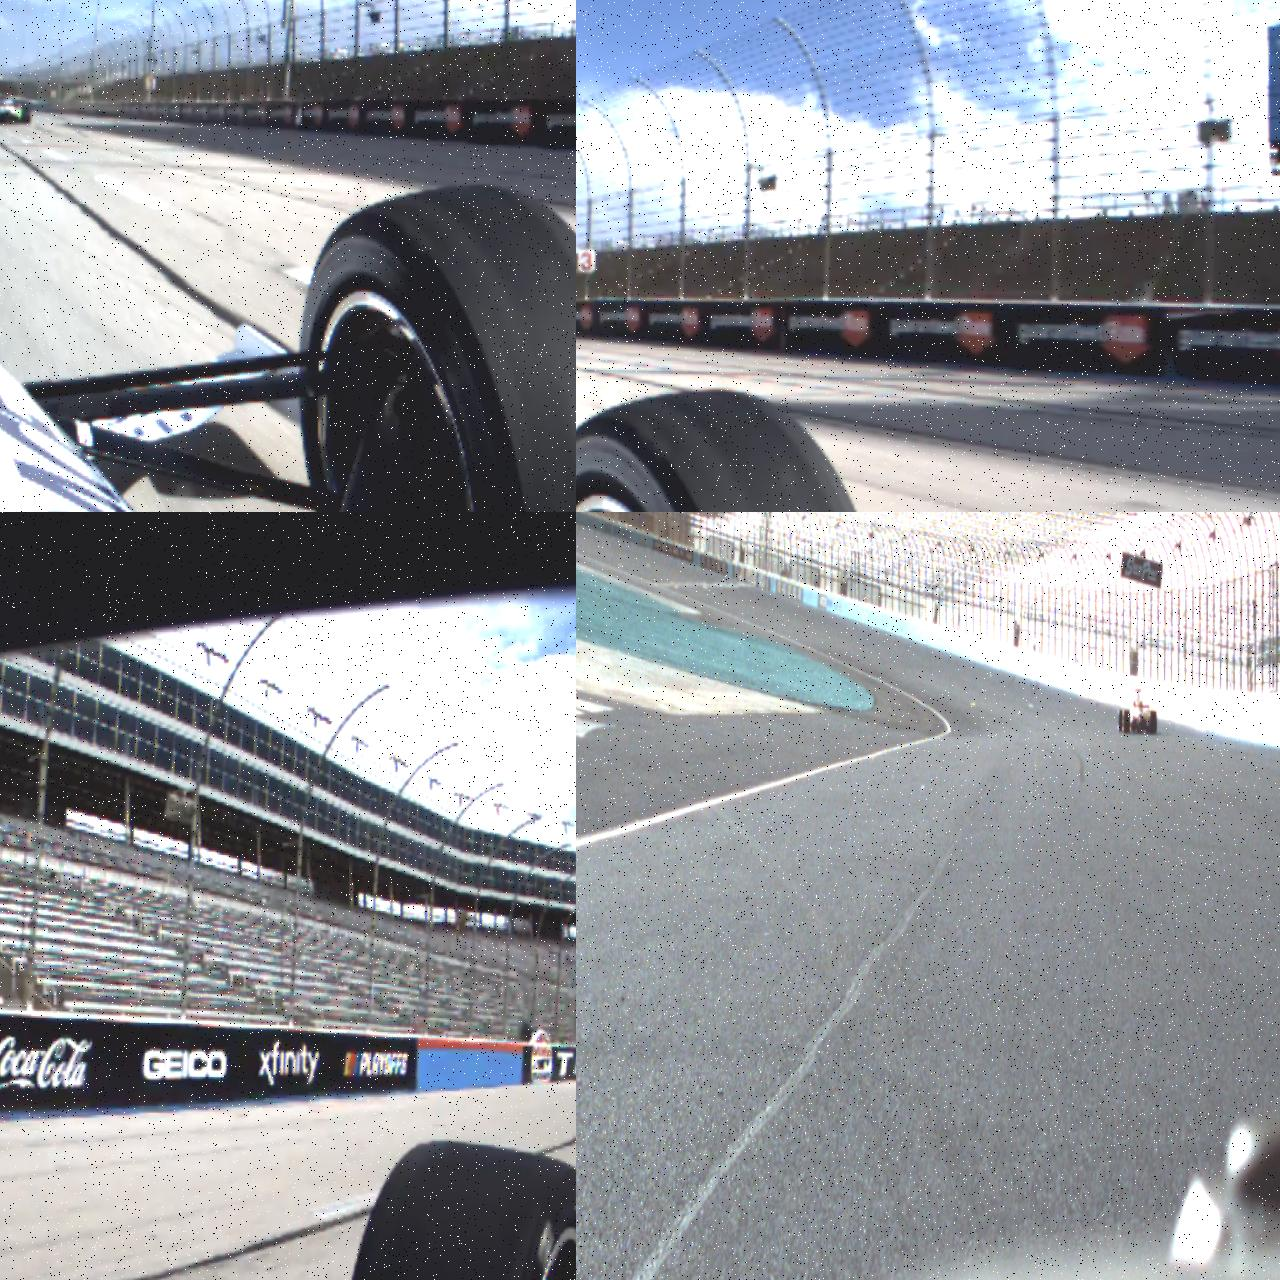AV: (1117, 687, 1157, 735), (0, 90, 30, 125)
Wheel: (293, 182, 576, 512), (576, 386, 896, 512), (341, 1139, 576, 1280), (1150, 710, 1157, 735), (1123, 710, 1130, 734), (22, 105, 30, 124), (1118, 710, 1123, 731)
